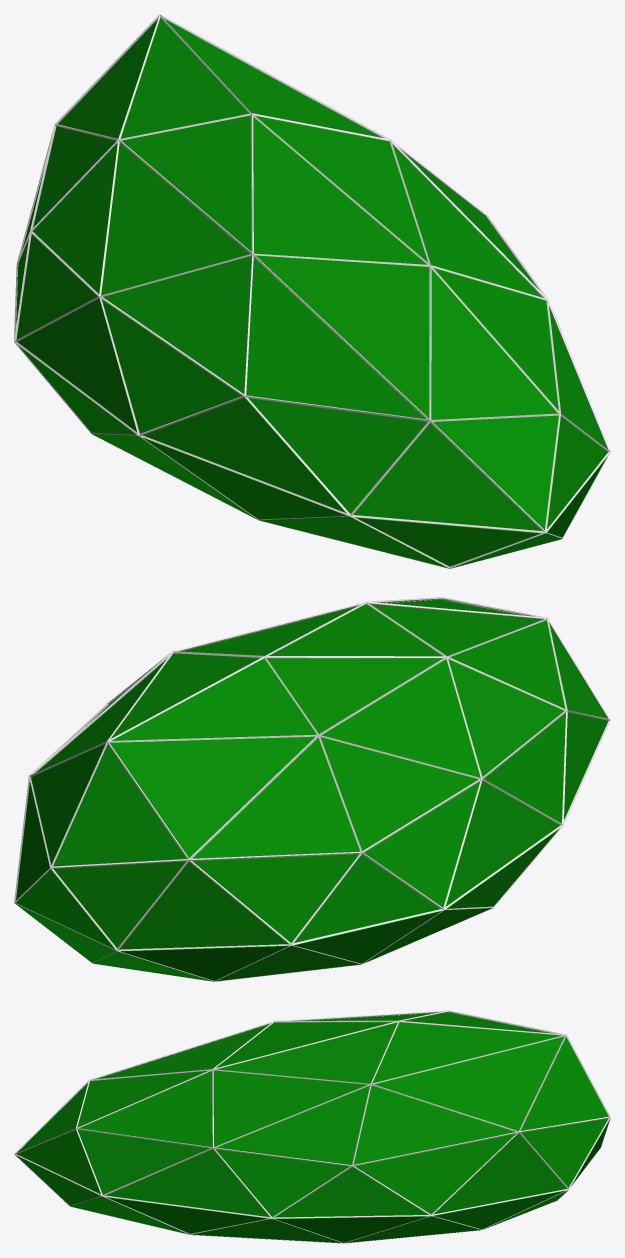
Rendered from bush4.glb.
The picture shows the model from 3 angles, top to bottom: view 1: azimuth 30°, elevation 25°; view 2: azimuth 150°, elevation 25°; view 3: azimuth 270°, elevation 25°; orthographic projection. The views are drawn at different scales.
Parts seen in each view (by area): view 1: Icosphere.001, Icosphere; view 2: Icosphere.001, Icosphere; view 3: Icosphere.001, Icosphere.
Part boxes in pixels (x1,y1,x2,y2): Icosphere.001: [16, 18, 607, 568]; Icosphere: [14, 14, 610, 568]; Icosphere.001: [16, 599, 608, 981]; Icosphere: [14, 597, 610, 981]; Icosphere.001: [16, 1012, 609, 1243]; Icosphere: [14, 1010, 610, 1243].
Size of the model in its own units: 0.9736 by 0.5736 by 1.81.
